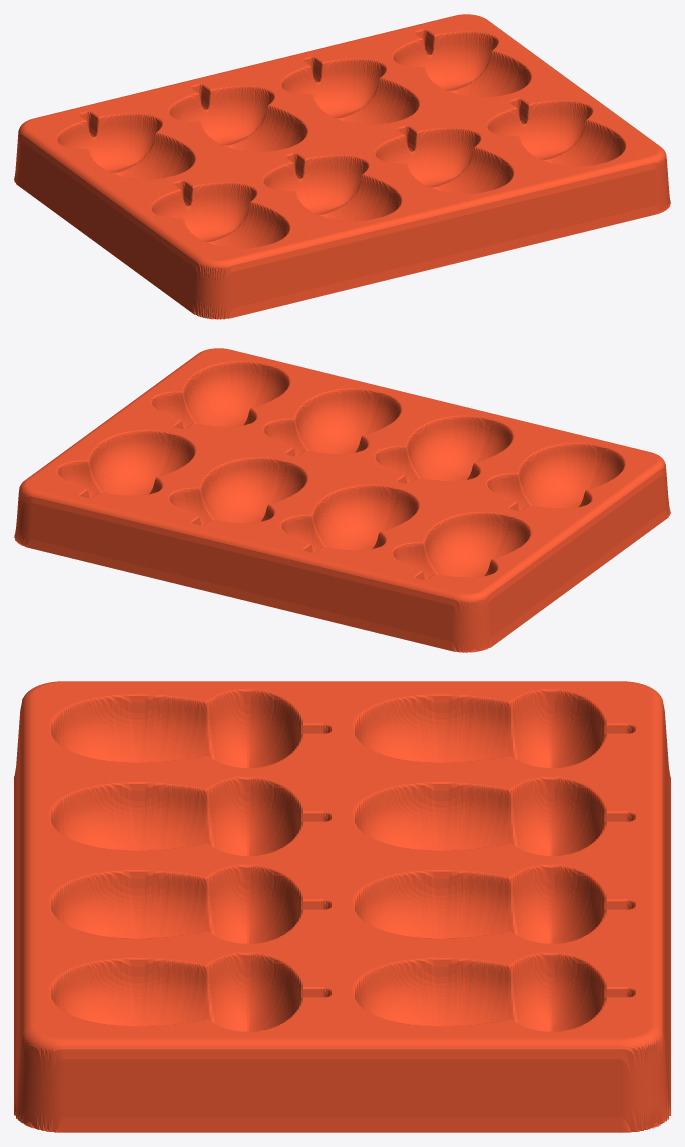
The model's file is mold.glb.
3 views of the same model, one above another, from view 1: azimuth 30°, elevation 25°; view 2: azimuth 150°, elevation 25°; view 3: azimuth 270°, elevation 25° (orthographic). The views are drawn at different scales.
Visible parts, largest first — view 1: geometry_0; view 2: geometry_0; view 3: geometry_0.
Part boxes in pixels (x1=…): geometry_0: x1=14, y1=14, x2=670, y2=319; geometry_0: x1=14, y1=348, x2=670, y2=652; geometry_0: x1=14, y1=681, x2=670, y2=1132.
Size of the model in its own units: 0.1622 by 0.0175 by 0.1209.
